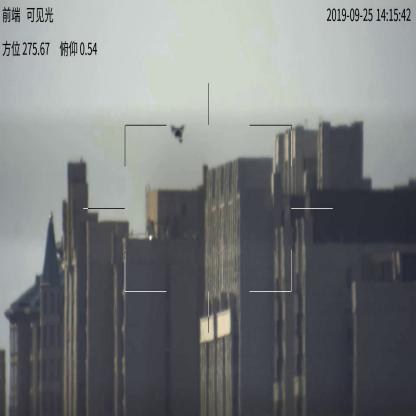uav: (168, 123, 186, 142)
